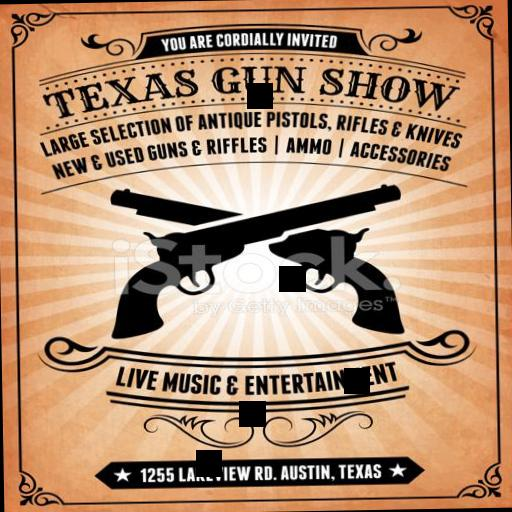Handgun: (106, 182, 402, 336)
